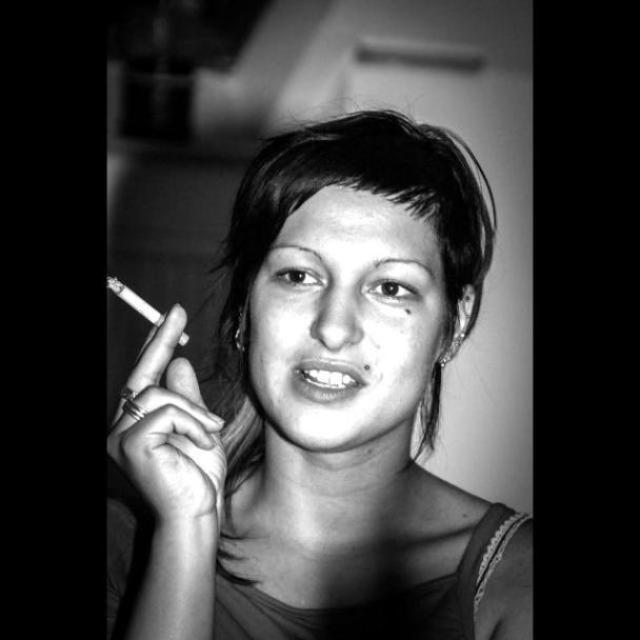rokok: (104, 274, 188, 348)
